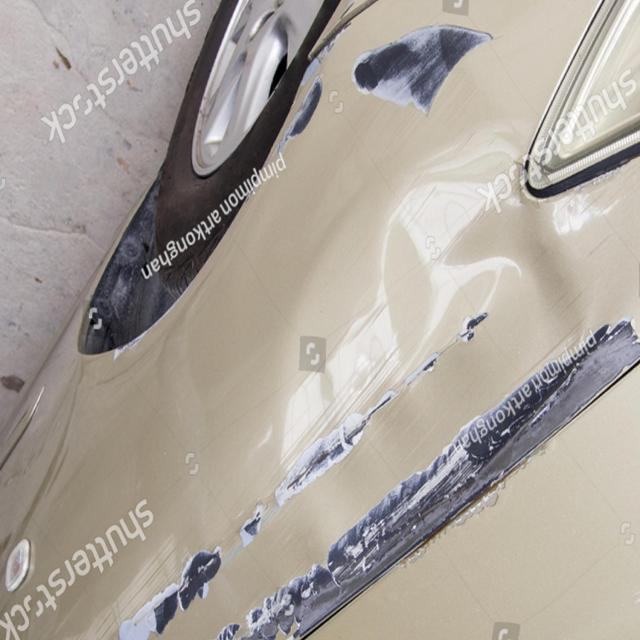scratch: (114, 263, 636, 640), (258, 18, 512, 166)
